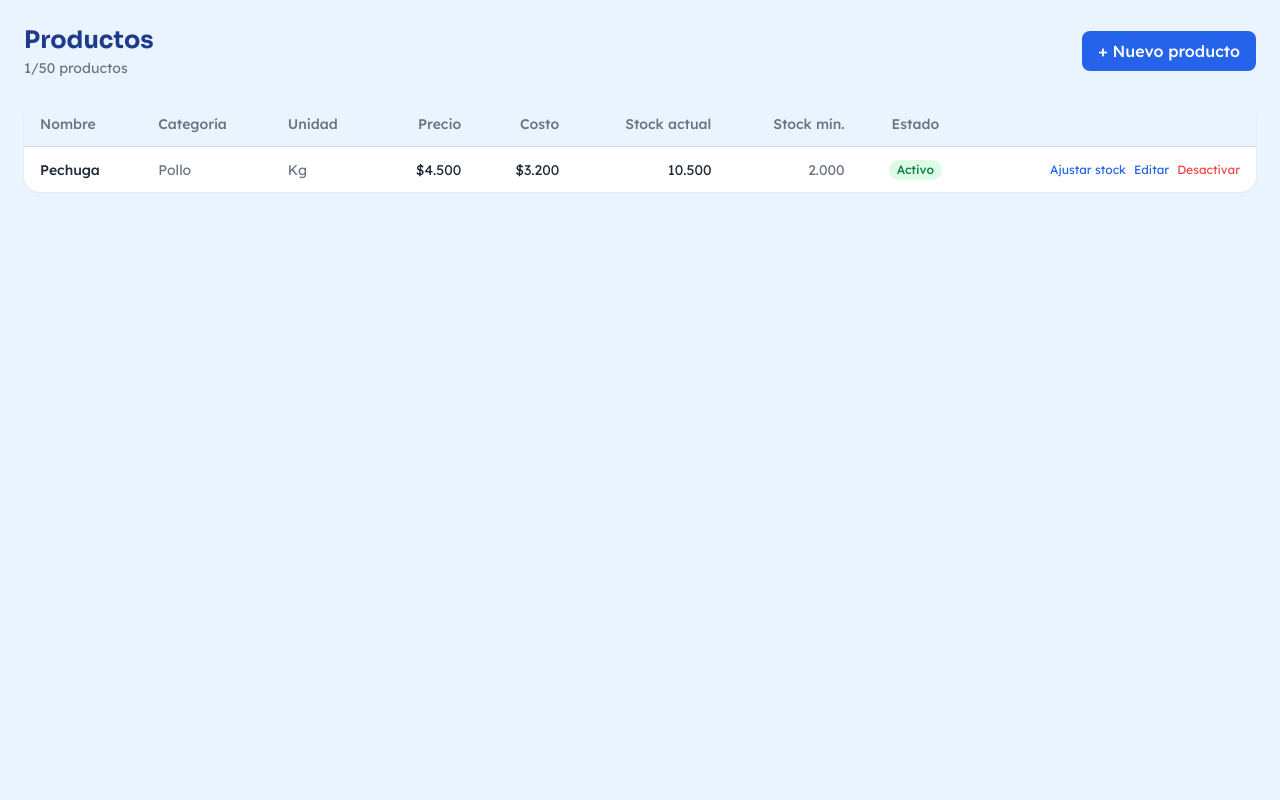
it: ProductsView — editar producto › al hacer click en "Editar" se abre el modal con los datos del producto
The width and height of the screenshot is (1280, 800).
Click the button "Editar".
click(1152, 170)  # box [1134, 162, 1169, 178]
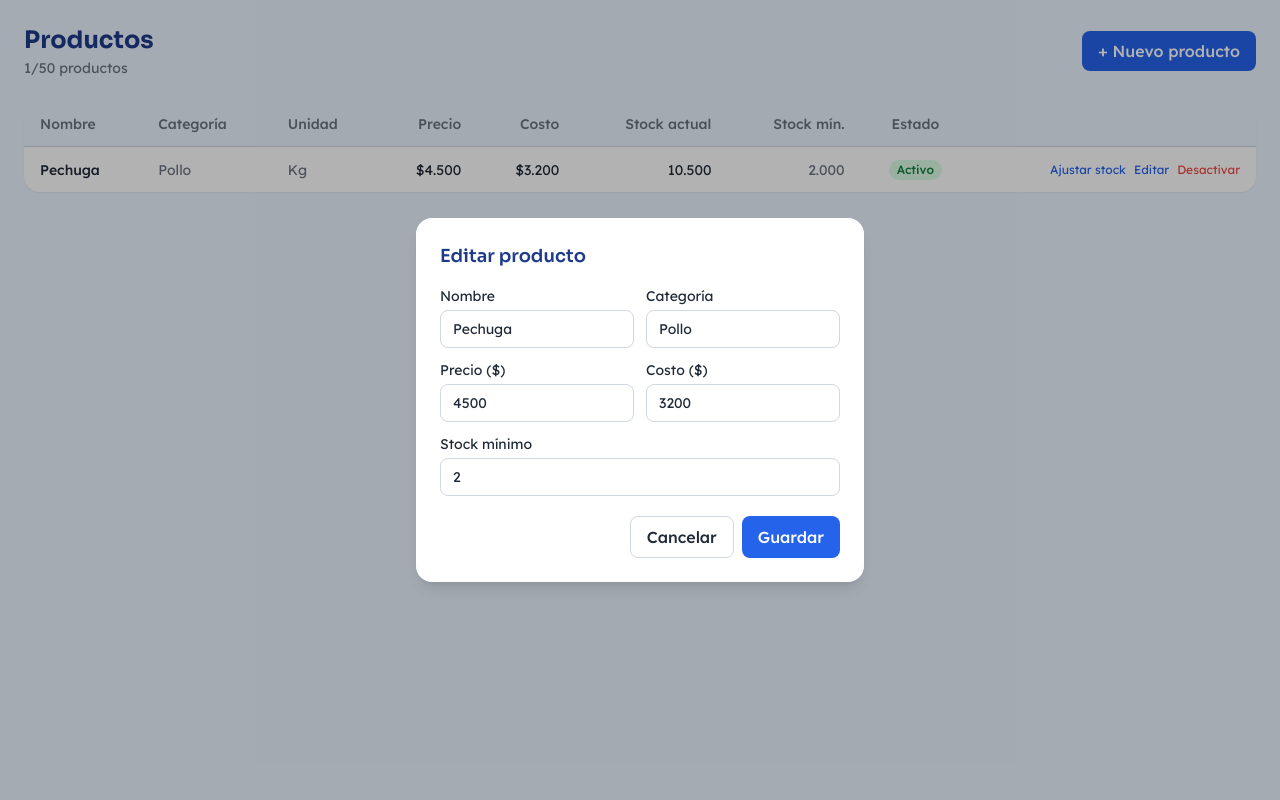
Result: the heading "Editar producto" is shown at [440, 245, 586, 267]
Result: the field showing "Pechuga" holds "Pechuga" at [440, 310, 634, 348]
